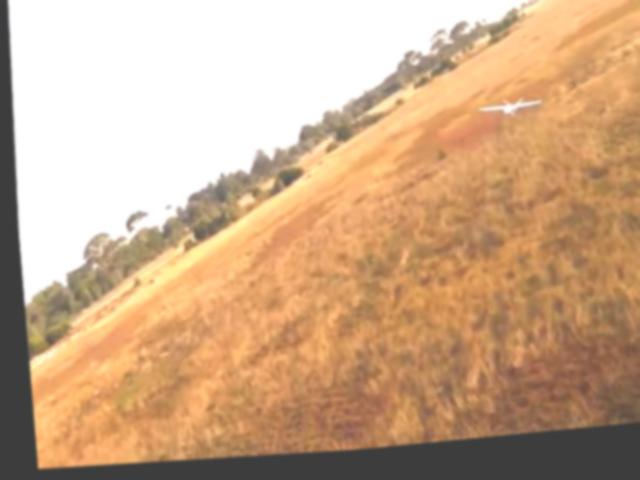uav: (471, 102, 545, 131)
